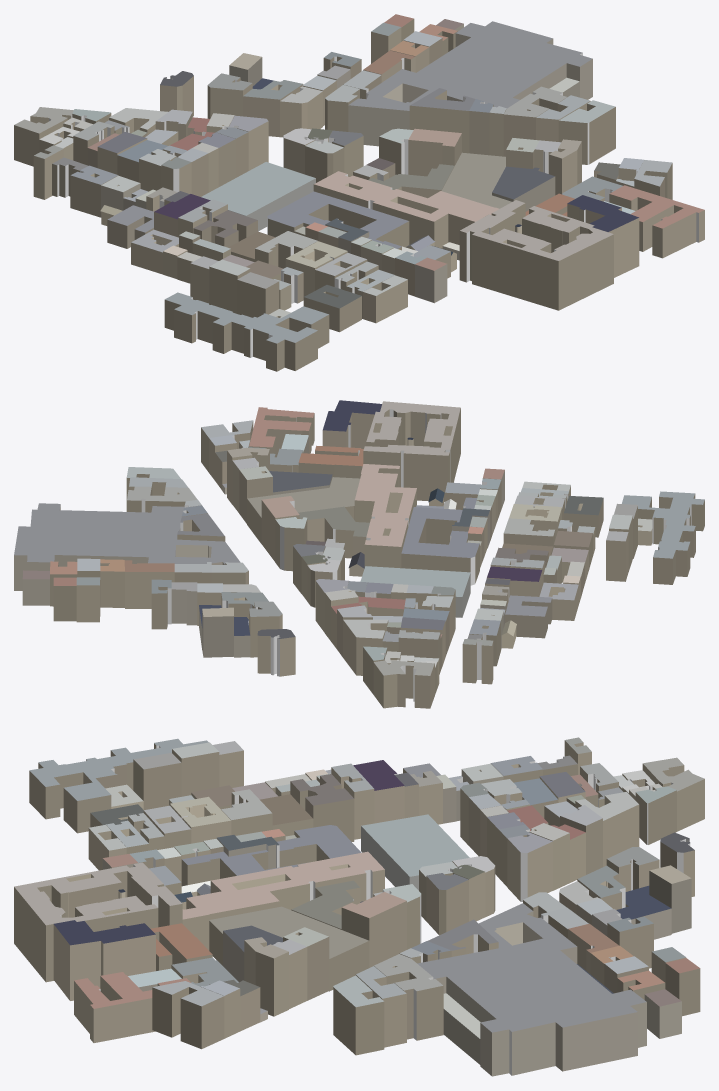
The picture shows the model from 3 angles, top to bottom: view 1: azimuth 30°, elevation 25°; view 2: azimuth 150°, elevation 25°; view 3: azimuth 270°, elevation 25°; orthographic projection. The views are drawn at different scales.
Visible parts, largest first — view 1: tuile; view 2: tuile; view 3: tuile.
Part boxes in pixels (<box>): tuile: <box>14,14,704,371</box>; tuile: <box>14,400,704,708</box>; tuile: <box>14,737,704,1076</box>.
Bounding box in the file's own units: 310 × 29.91 × 291.
